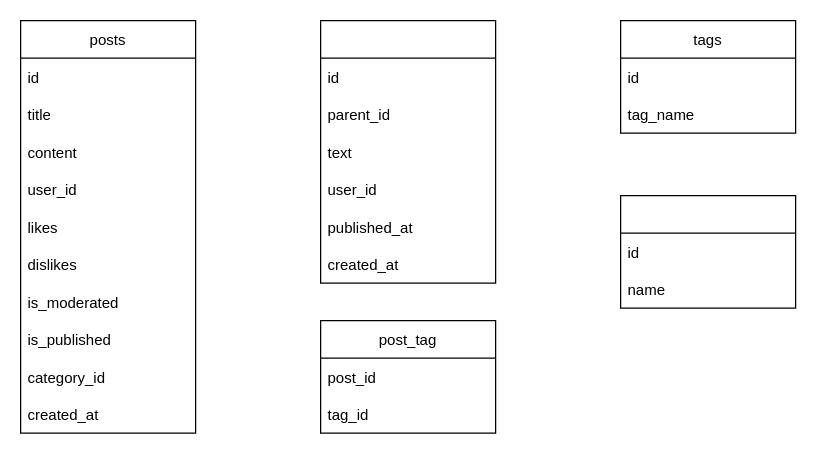
The diagram is 816 pixels wide and 454 high, and some of its shapes have lost their labels. Each missing label, with the box of its shape:
categories: (619, 194, 796, 308)
comments: (319, 19, 496, 283)
